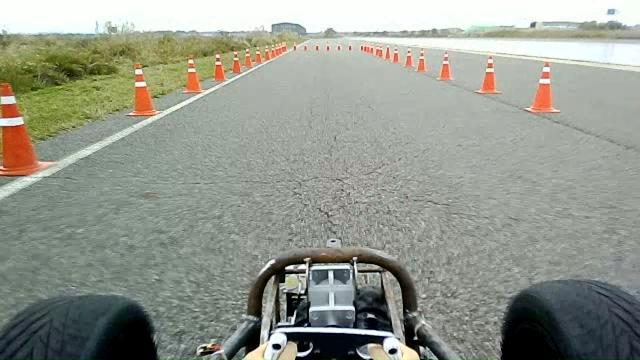red cone: (0, 74, 57, 176), (524, 60, 560, 113), (125, 63, 160, 116), (474, 55, 502, 94), (181, 56, 205, 93), (436, 49, 454, 81), (211, 50, 228, 82), (415, 47, 428, 72), (230, 49, 241, 74), (403, 47, 414, 69), (244, 48, 252, 68), (392, 44, 400, 63), (254, 47, 263, 63), (384, 46, 392, 61), (264, 45, 270, 61)
